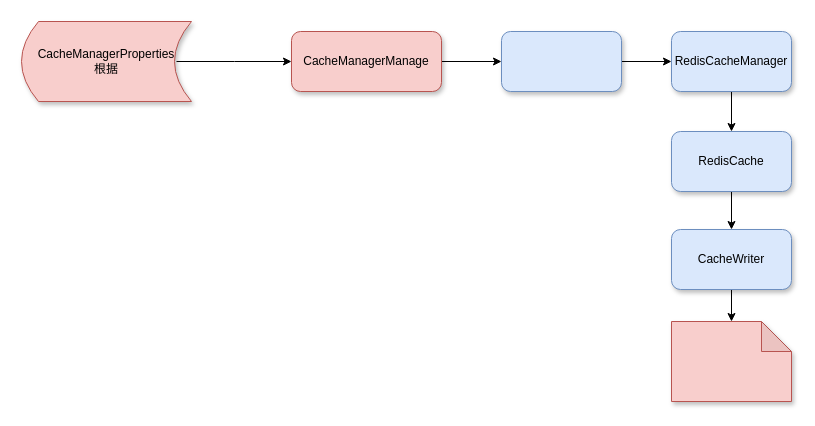
Image size: 815x426. Some labels were removed from this diagram. Here are the shapes that lost their labels. From the top down, the centre of each, then its label:
pixel 562 62: CacheManager
pixel 732 362: 基于redisTemplate 编写CacheWriter
